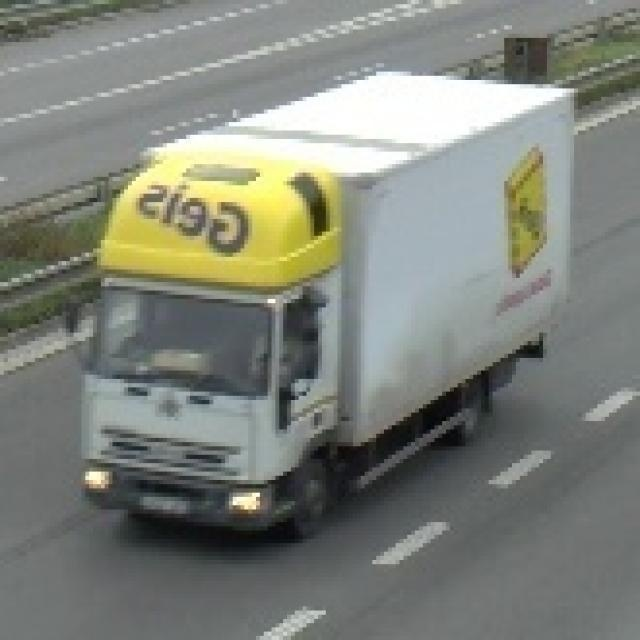Truck: (62, 59, 570, 535)
